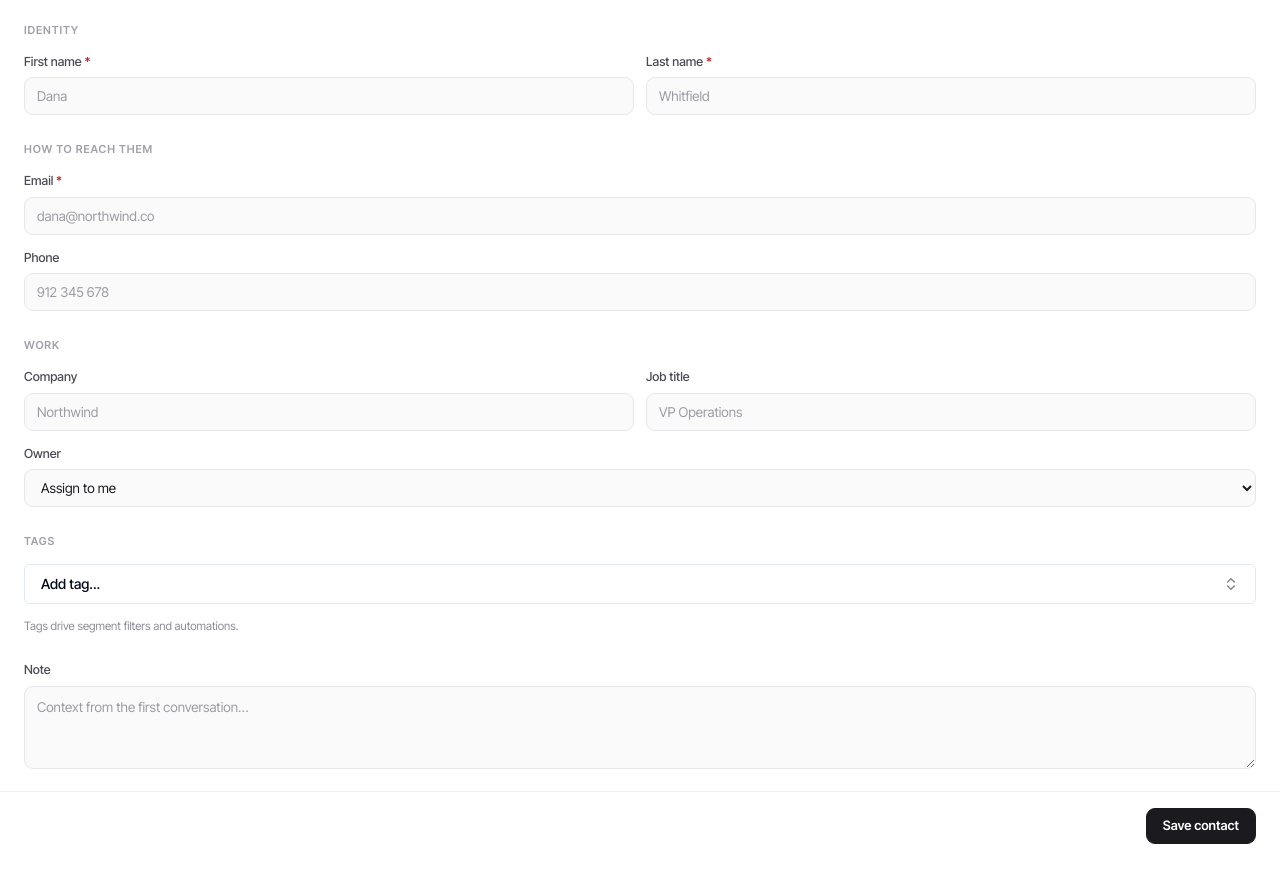
Test: ContactForm › shows server errors inline
Type "ada@example.com" into the field labelled "Email *". click: (640, 216)
box: [24, 196, 1256, 234]
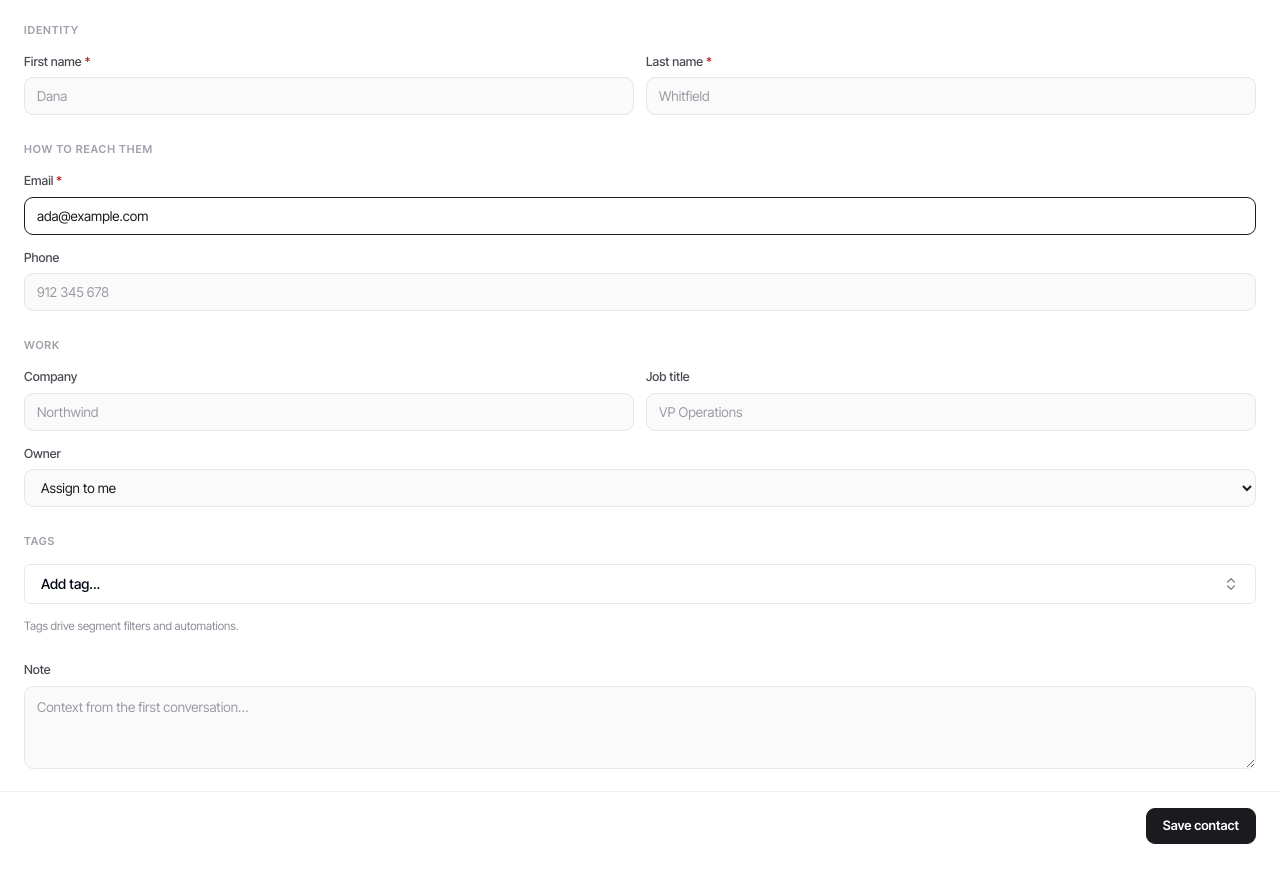
Type "Ada" into the field labelled "First name *". click: (329, 96)
box: [24, 77, 634, 115]
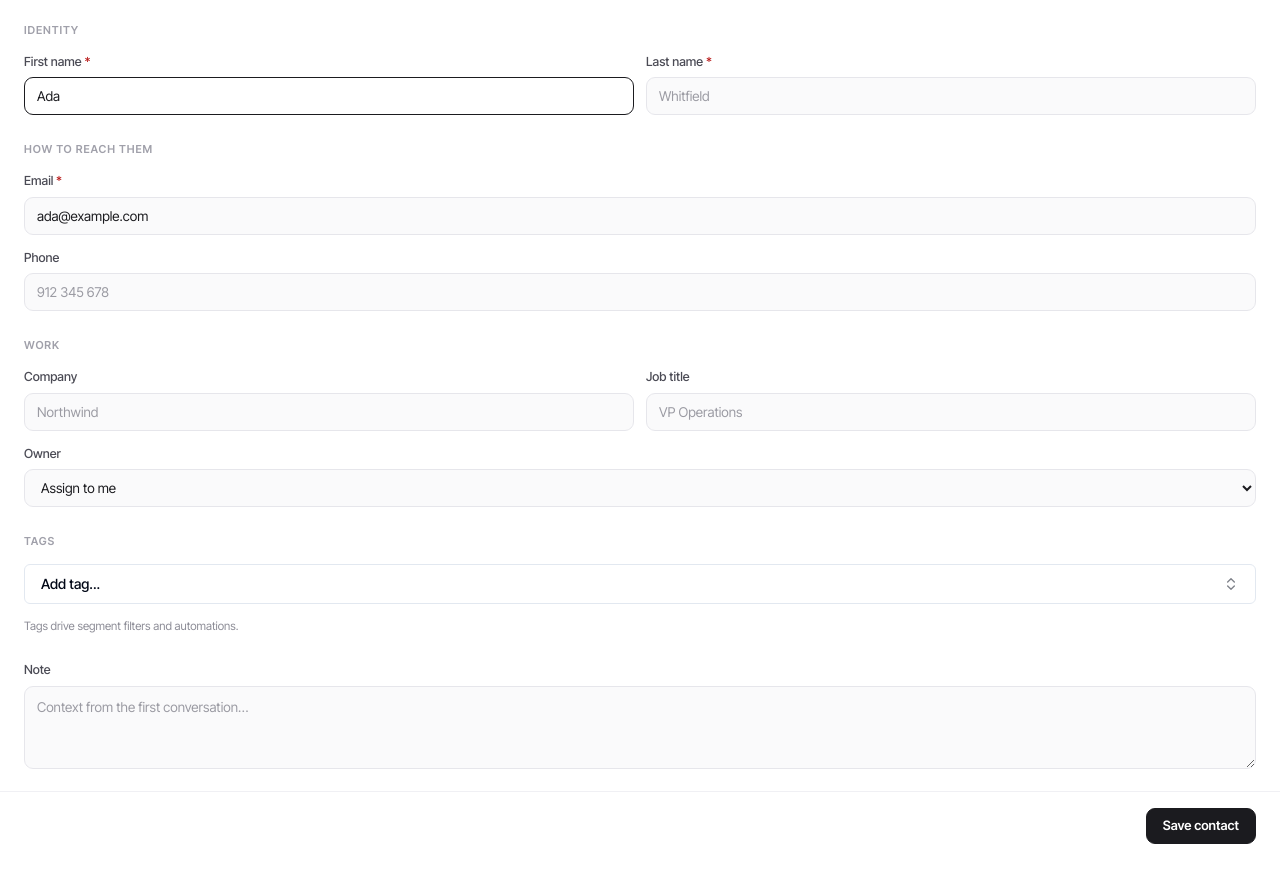
Type "Lovelace" into the field labelled "Last name *". click: (951, 96)
box: [646, 77, 1256, 115]
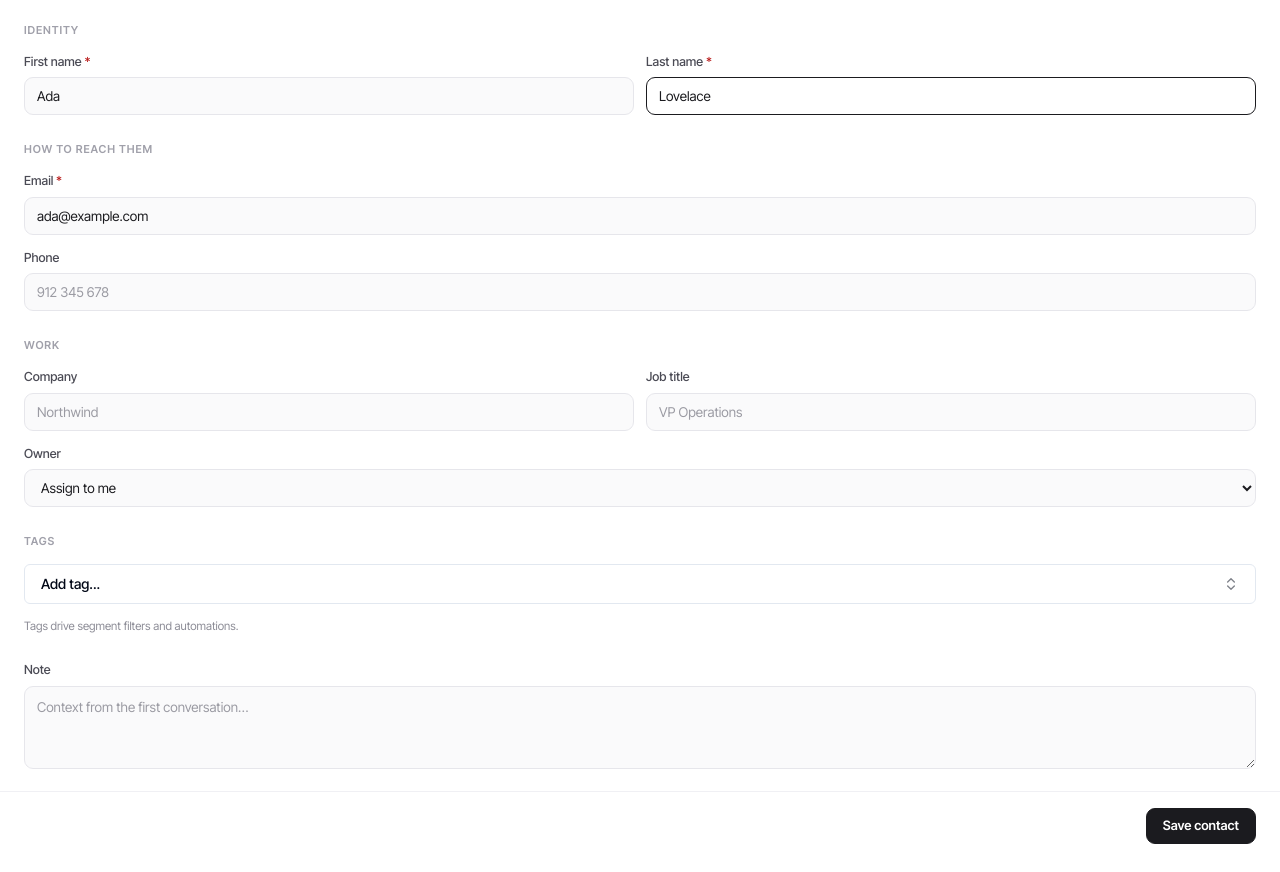
Click the button "Save contact". click: (1201, 826)
box: [1146, 808, 1256, 844]
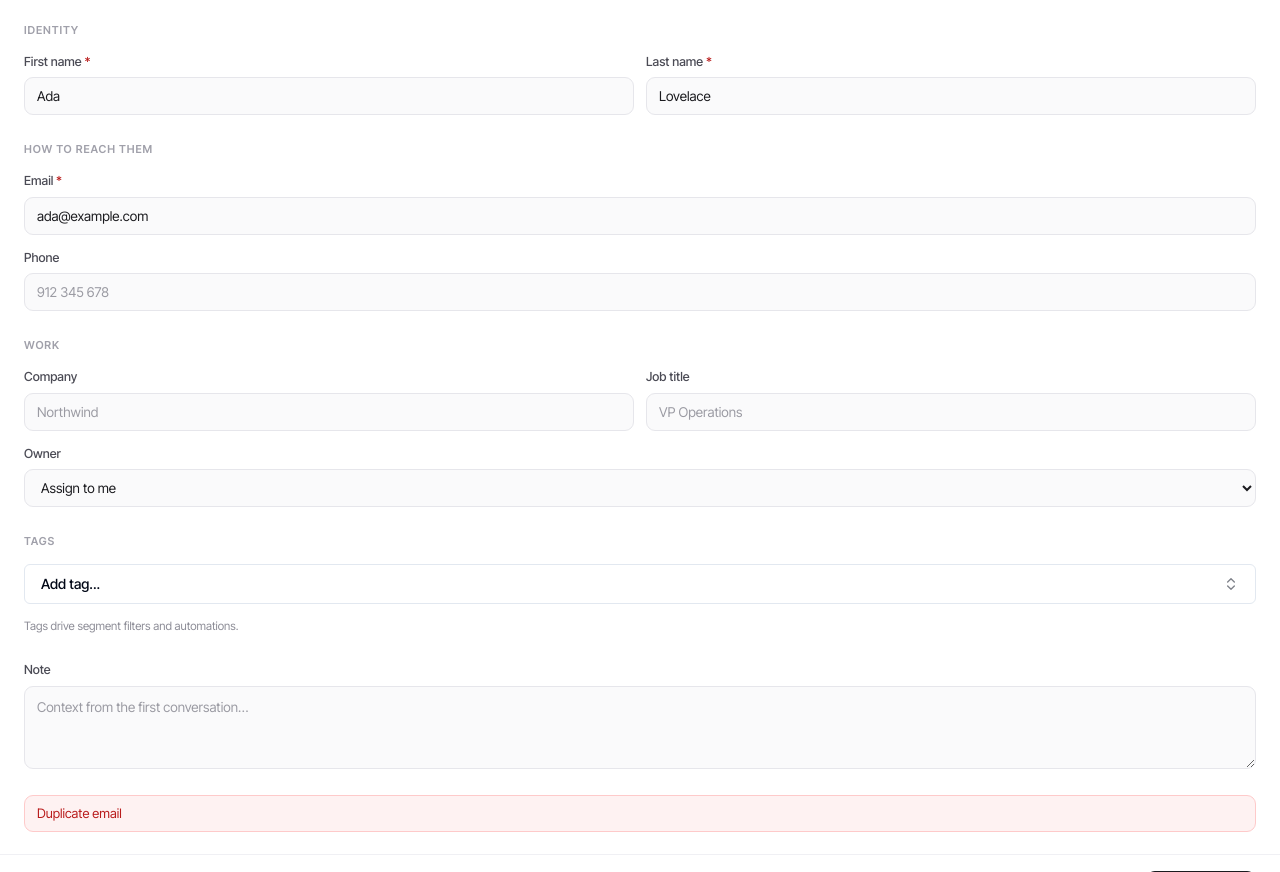
expect the text "Duplicate email" is shown: met, box [24, 794, 1256, 832]
